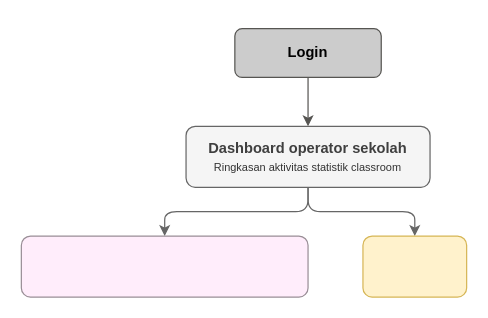
The diagram is 488 pixels wide and 318 high, and some of its shapes have lost their labels. Here are the shapes that lost their labels. From the top down, the centre of each, then its label:
point 164,266: Mengelola link classroom membuat dan memonitoring aktivitas detail setiap kelas
point 414,266: Profil Update profil
